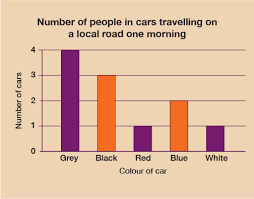Xaxis: (30, 150, 248, 179)
Yaxis: (10, 45, 43, 156)
bar: (60, 49, 80, 152), (97, 75, 117, 153), (169, 100, 189, 154), (205, 125, 225, 153), (133, 125, 153, 152)
